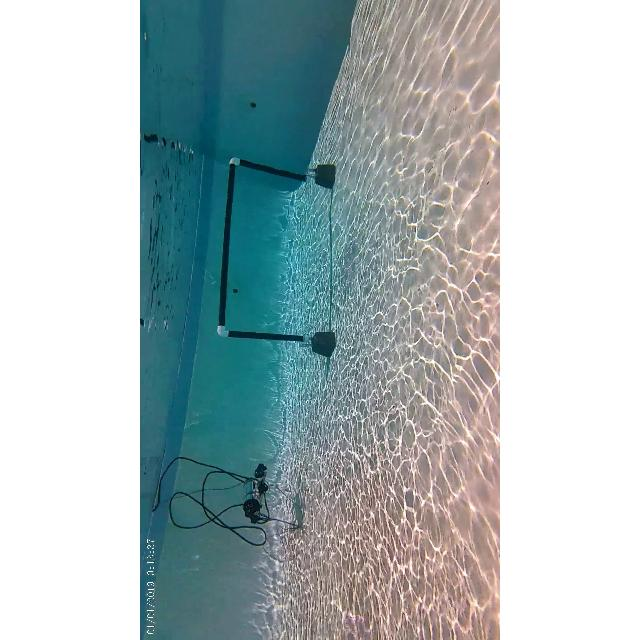prequal gate: (217, 156, 311, 342)
prequal gate leg l: (212, 321, 314, 352)
prequal gate leg r: (225, 156, 318, 188)
